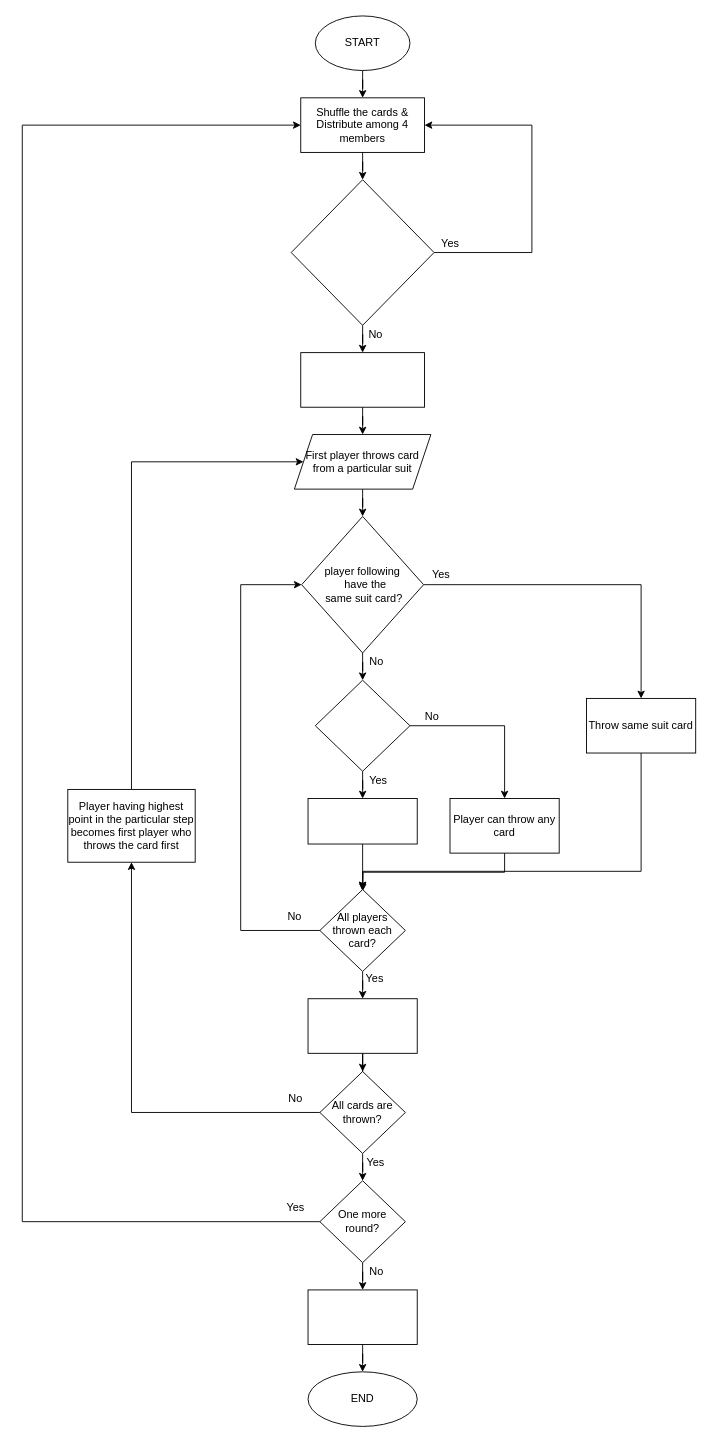
This 712x1442 diagram has some shape labels left out. The box of each missing label's shape, as (x1, y1, x2, y2) in pixels:
Any player gets 4 aces? or Any player doesn't get a single spade card ?: (290, 179, 434, 325)
Assign points according to priority order: (307, 998, 417, 1053)
Display points board & Declare winner!: (307, 1289, 417, 1345)
Player have spade card?: (314, 679, 410, 771)
Player have to throw spade card: (307, 798, 417, 844)
Players start throwing card in ANCW fashion: (300, 352, 425, 407)
